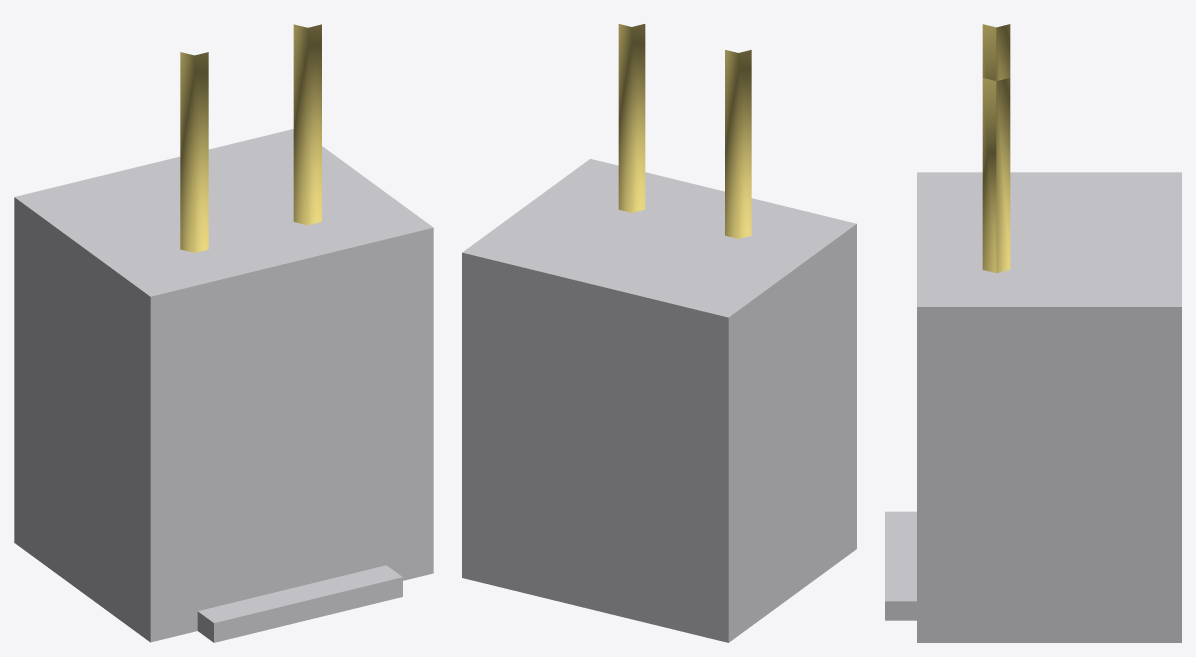
The model's file is beer_server.glb.
3 views of the same model, side by side, from view 1: azimuth 30°, elevation 25°; view 2: azimuth 150°, elevation 25°; view 3: azimuth 270°, elevation 25° (orthographic). The views are drawn at different scales.
Visible parts, largest first — view 1: body, taps, drip_tray; view 2: body, taps; view 3: body, taps, drip_tray.
Boxes of the visible parts, bbox=[...] form: body: bbox=[14, 129, 433, 642]; taps: bbox=[180, 24, 321, 252]; drip_tray: bbox=[197, 565, 402, 642]; body: bbox=[462, 159, 856, 642]; taps: bbox=[618, 24, 751, 238]; body: bbox=[917, 172, 1181, 642]; taps: bbox=[982, 24, 1010, 273]; drip_tray: bbox=[885, 511, 916, 620].
Size of the model in its own units: 0.3 by 0.55 by 0.28.
